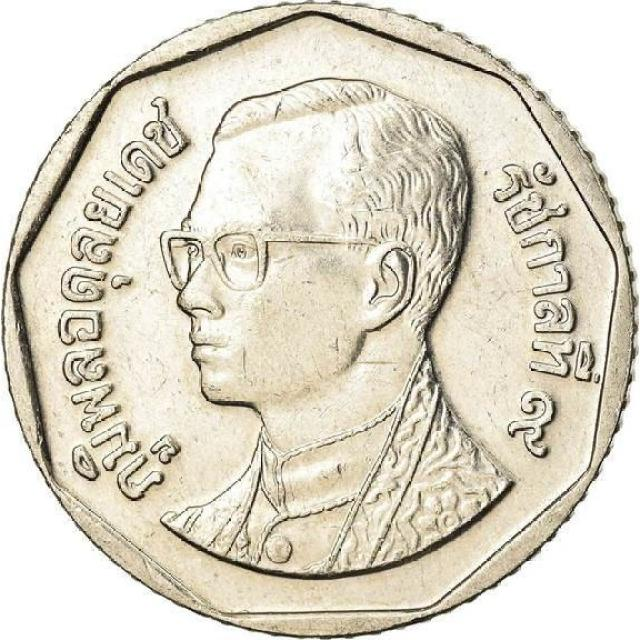5 Bath: (4, 1, 640, 640)
